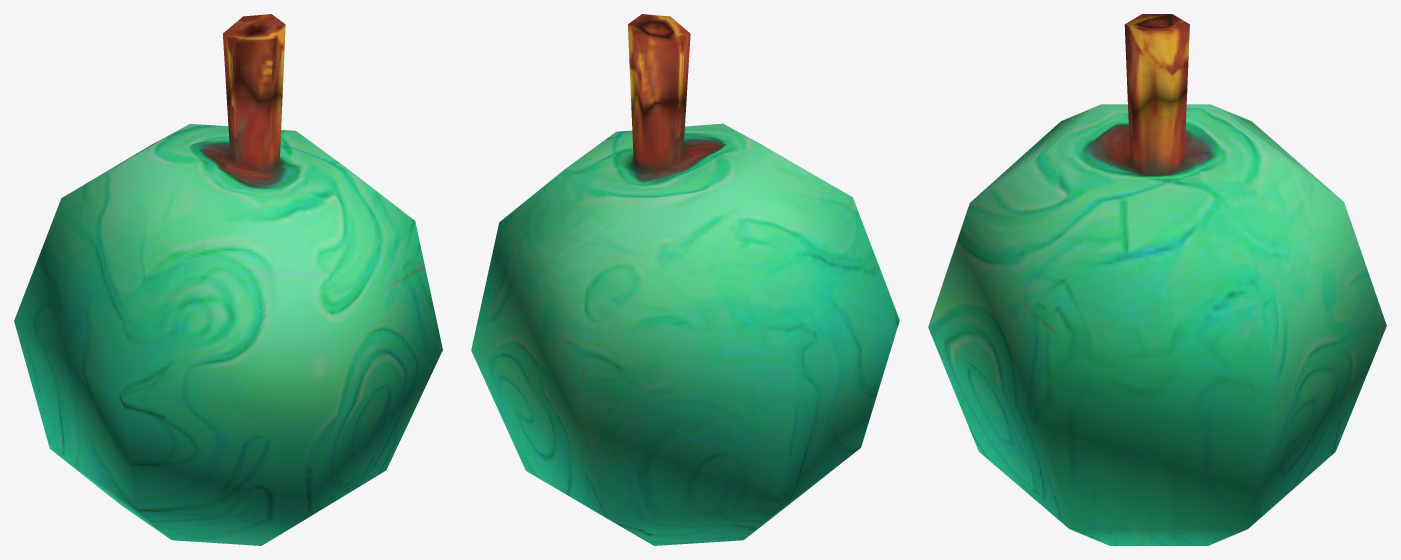
The model's file is Fruit03.glb.
3 renders of one model, left to right at view 1: azimuth 30°, elevation 25°; view 2: azimuth 150°, elevation 25°; view 3: azimuth 270°, elevation 25°, orthographic. The views are drawn at different scales.
Visible parts, largest first — view 1: Fruittobake3; view 2: Fruittobake3; view 3: Fruittobake3.
Boxes of the visible parts, <box> form: Fruittobake3: <box>14,14,442,545</box>; Fruittobake3: <box>471,14,899,545</box>; Fruittobake3: <box>928,14,1386,545</box>.
Bounding box in the file's own units: 0.2739 × 0.4008 × 0.3196.
Materials: 1 (1 with a texture image).
